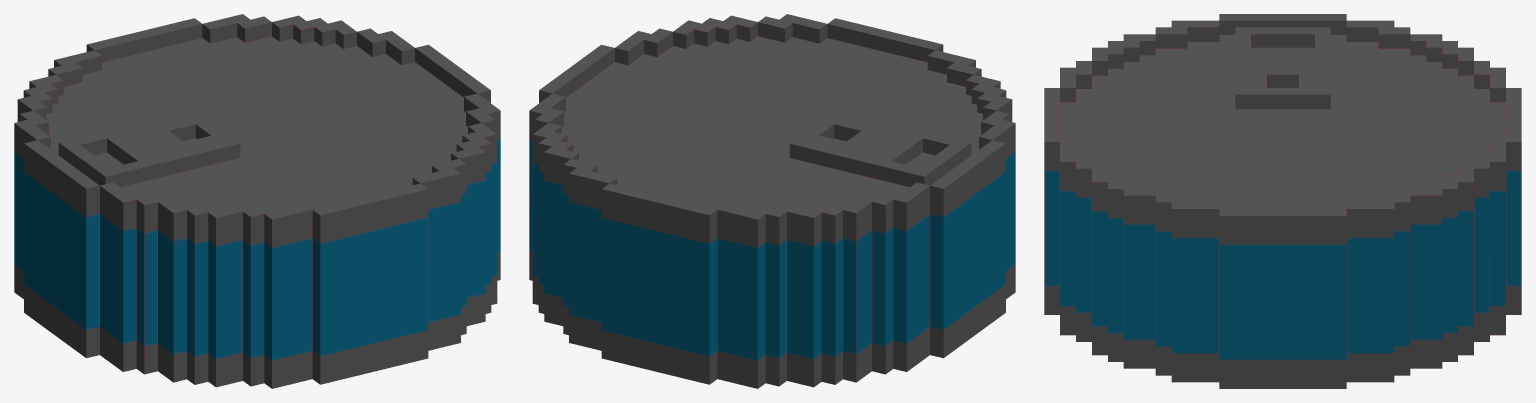
Rendered from Escenario 3 chocorramosurvivor-1.obj.
The picture shows the model from 3 angles, left to right: view 1: azimuth 30°, elevation 25°; view 2: azimuth 150°, elevation 25°; view 3: azimuth 270°, elevation 25°; orthographic projection. The views are drawn at different scales.
Parts seen in each view (by area): view 1: Escenario_3_chocorramosurvivor-1; view 2: Escenario_3_chocorramosurvivor-1; view 3: Escenario_3_chocorramosurvivor-1.
Part boxes in pixels (box(x1,y1,x2,y2)): Escenario_3_chocorramosurvivor-1: box(14, 14, 500, 388); Escenario_3_chocorramosurvivor-1: box(529, 14, 1015, 388); Escenario_3_chocorramosurvivor-1: box(1044, 14, 1521, 388).
Bounding box in the file's own units: 3 × 1.2 × 3.
Materials: 1 (1 with a texture image).
